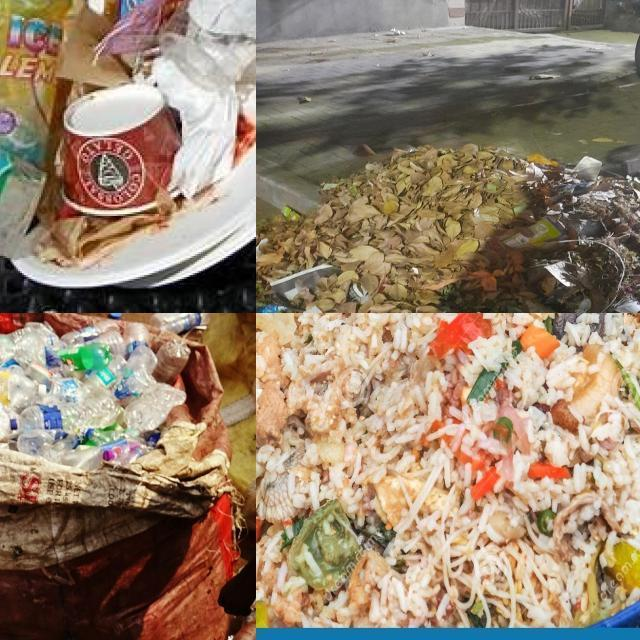Disposable: (13, 142, 256, 288), (575, 298, 592, 313)
Garbage: (256, 313, 640, 628), (256, 144, 640, 313), (0, 321, 189, 470)
Plastic_Bag: (573, 156, 601, 182), (256, 303, 288, 313)
Plastic_bottle: (10, 394, 122, 433), (123, 383, 186, 435), (113, 345, 158, 401), (0, 365, 47, 413), (85, 355, 126, 396), (152, 340, 191, 383), (60, 319, 119, 347), (57, 344, 112, 370), (126, 345, 158, 375), (123, 322, 149, 356), (24, 361, 53, 386), (0, 334, 16, 366)
Plastic_wraper: (95, 0, 185, 62), (502, 217, 563, 248)
Tetrapack: (282, 206, 301, 220)
